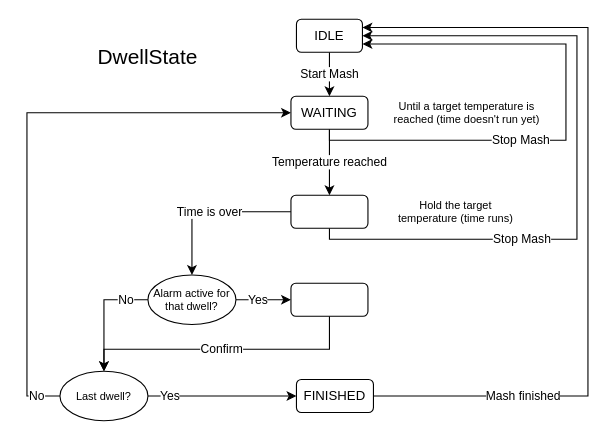
Image size: 616x440. Some labels were removed from this diagram. The centre of each missing label's shape, as x and y in pixels:
"ALARM" belongs at point (329, 299).
"PENDING" belongs at point (329, 211).
